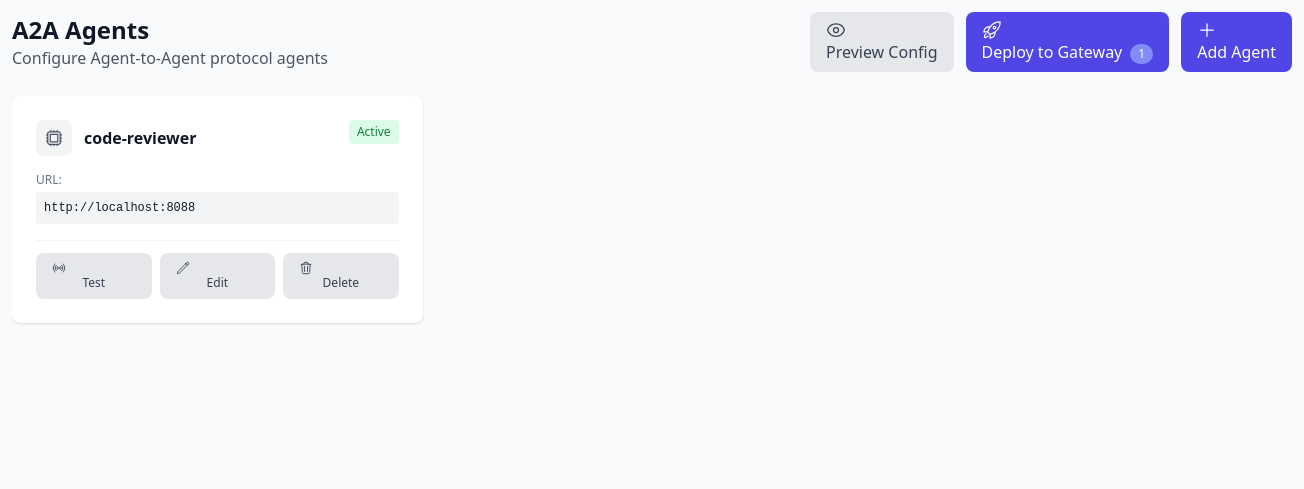
Test: Agents › shows delete confirmation dialog when Delete is clicked
Click the button "Delete" at (341, 276), box [283,253,399,299]
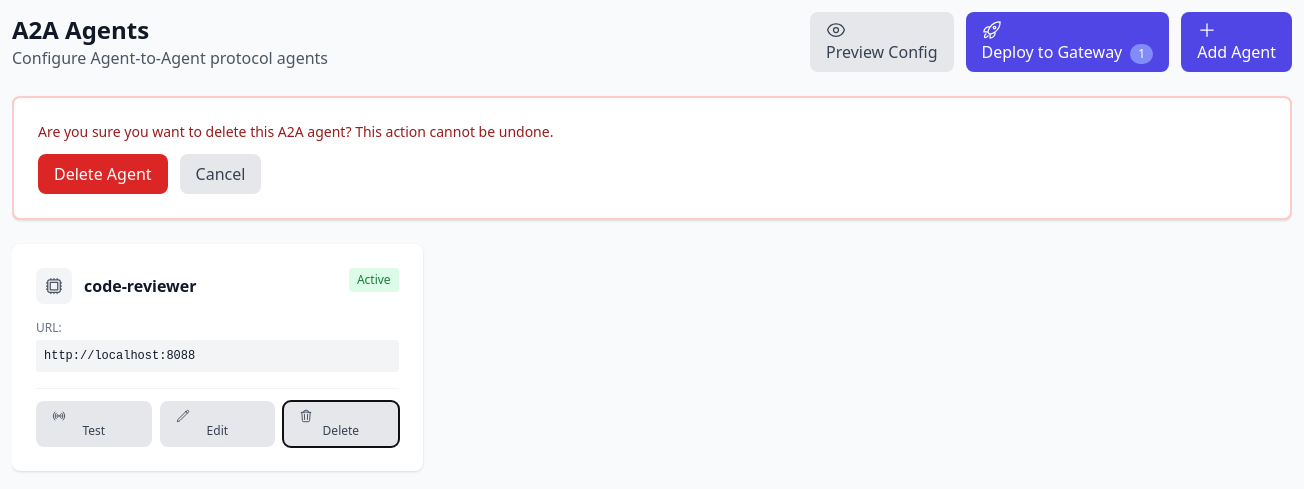
Check: the text "Are you sure you want to delete this A2A agent? This action cannot be undone." is shown, box [38,122,553,141]
Check: the button "Delete Agent" is shown, box [38,154,168,194]
